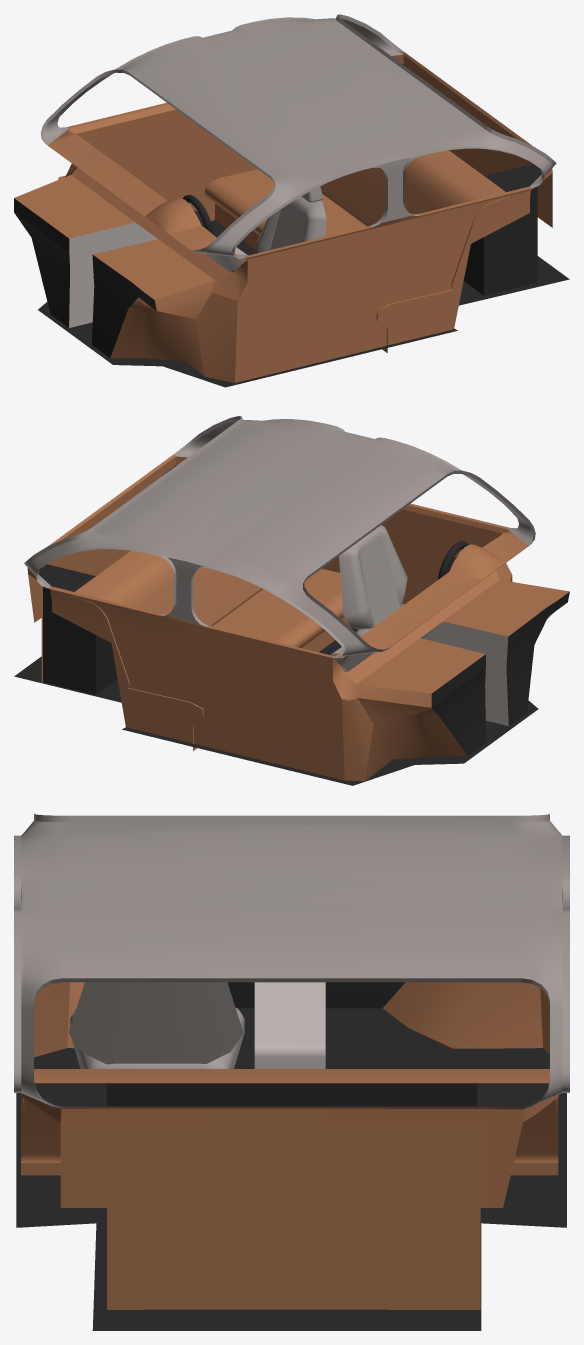
File: hatchbackInterior.fbx
3 views of the same model, one above another, from view 1: azimuth 30°, elevation 25°; view 2: azimuth 150°, elevation 25°; view 3: azimuth 270°, elevation 25° (orthographic). The views are drawn at different scales.
Visible parts, largest first — view 1: hatchbackInterior, hatchbackBackseat, hatchbackFloor, frontSeat1; view 2: hatchbackInterior, hatchbackBackseat, frontSeat1, hatchbackFloor; view 3: hatchbackInterior, hatchbackFloor, frontSeat1, hatchbackBackseat.
Part boxes in pixels (x1,y1,x2,y2): hatchbackInterior: (14, 14, 556, 382); hatchbackBackseat: (204, 150, 511, 353); hatchbackFloor: (38, 220, 569, 387); frontSeat1: (257, 186, 326, 252); hatchbackInterior: (24, 416, 569, 781); hatchbackBackseat: (70, 550, 351, 750); frontSeat1: (339, 525, 407, 636); hatchbackFloor: (14, 628, 538, 785); hatchbackInterior: (14, 814, 569, 1309); hatchbackFloor: (16, 1008, 566, 1330); frontSeat1: (68, 982, 244, 1068); hatchbackBackseat: (21, 1069, 558, 1175).
Size of the model in its own units: 573 by 248 by 413.
